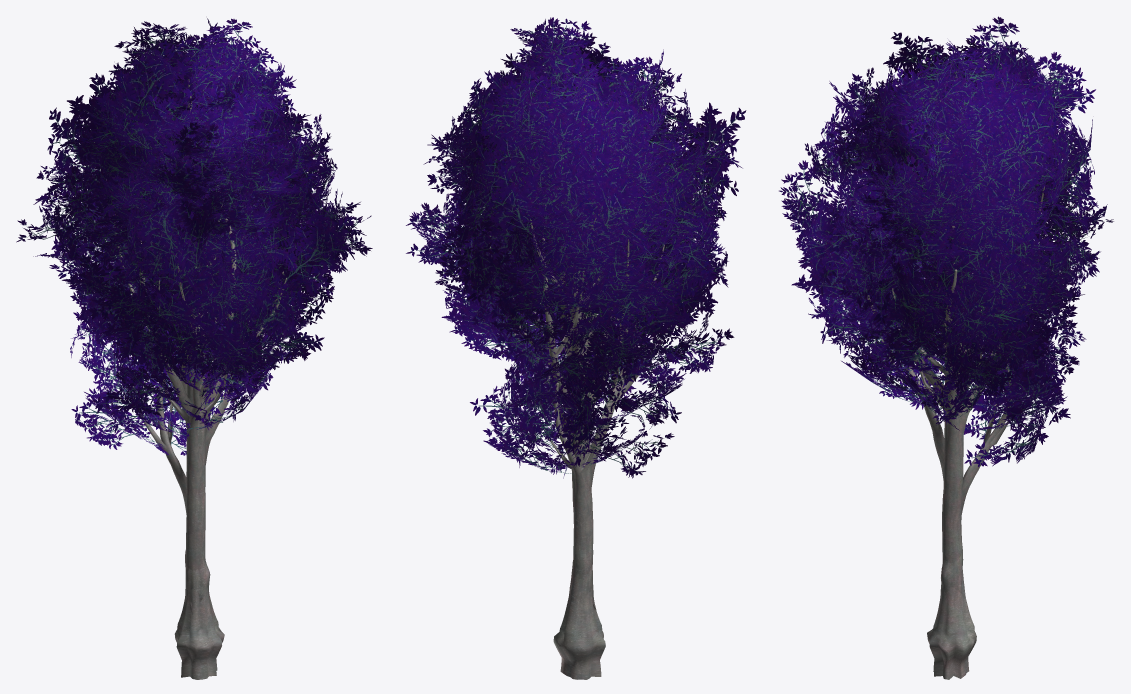
3 views of the same model, side by side, from view 1: azimuth 30°, elevation 25°; view 2: azimuth 150°, elevation 25°; view 3: azimuth 270°, elevation 25° (orthographic).
Visible parts, largest first — view 1: SM_GF_Ash_Tree_03_LOD0; view 2: SM_GF_Ash_Tree_03_LOD0; view 3: SM_GF_Ash_Tree_03_LOD0.
Boxes of the visible parts, left/top/right/bottom form: SM_GF_Ash_Tree_03_LOD0: left=16, top=18, right=372, bottom=679; SM_GF_Ash_Tree_03_LOD0: left=406, top=17, right=746, bottom=679; SM_GF_Ash_Tree_03_LOD0: left=779, top=16, right=1113, bottom=679.
Bounding box in the file's own units: 8.71 × 17.19 × 8.17.
2 materials, 2 textured.
